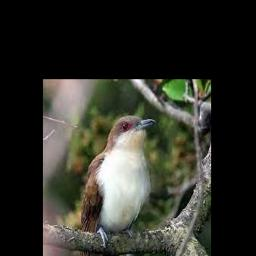Cuckoo: (73, 116, 156, 256)
